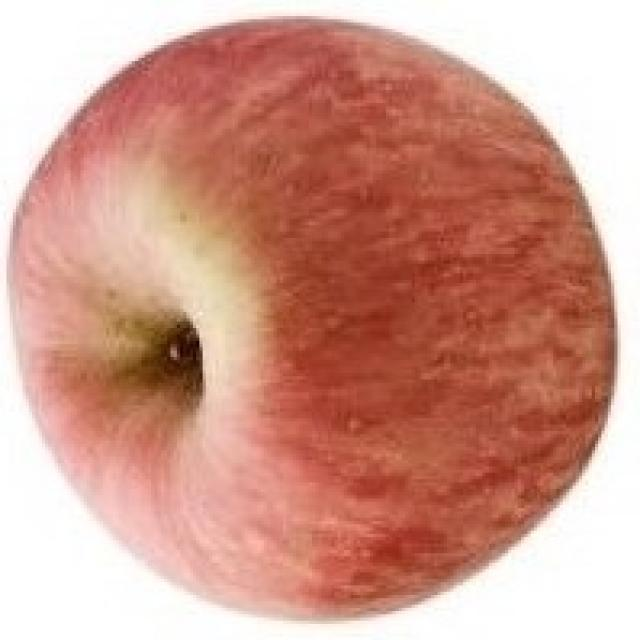75-_ripeness: (0, 19, 617, 624)
